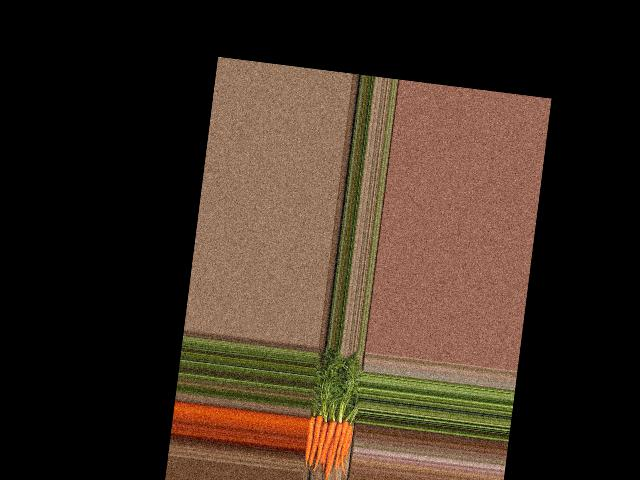carrot: (303, 413, 318, 466)
